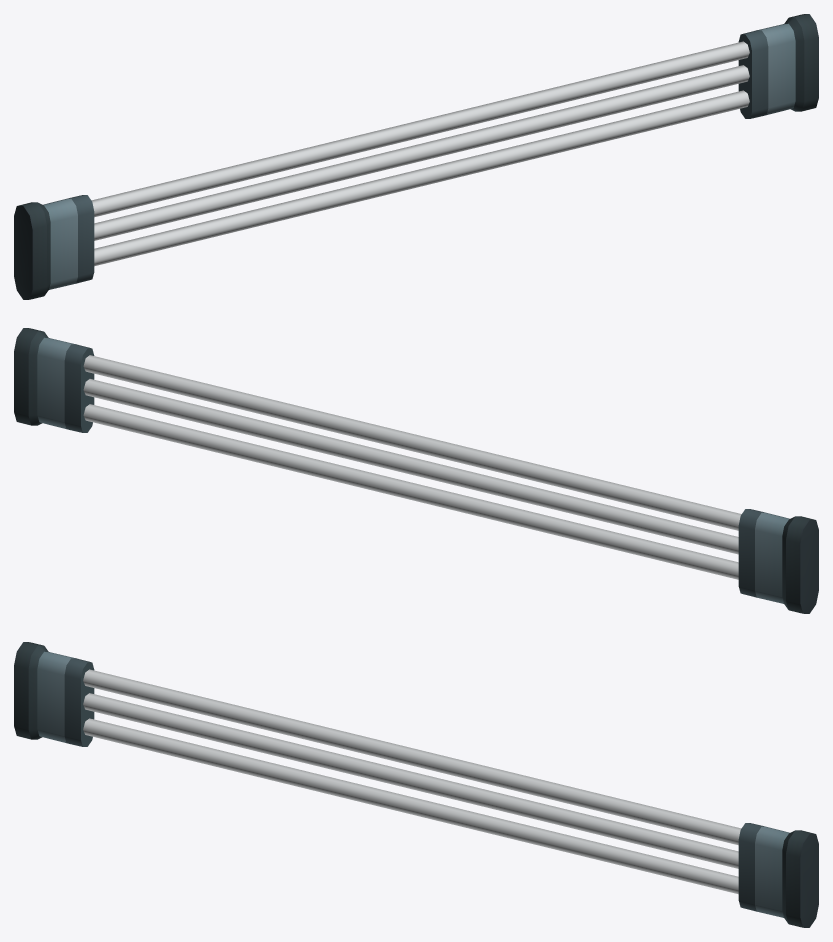
The model's file is Cable_type_B_006.fbx.
3 renders of one model, top to bottom at view 1: azimuth 30°, elevation 25°; view 2: azimuth 150°, elevation 25°; view 3: azimuth 330°, elevation 25°, orthographic.
Visible parts, largest first — view 1: Cable_type_B_006; view 2: Cable_type_B_006; view 3: Cable_type_B_006.
Boxes of the visible parts, bbox=[...] form: Cable_type_B_006: bbox=[14, 14, 818, 299]; Cable_type_B_006: bbox=[14, 328, 818, 613]; Cable_type_B_006: bbox=[14, 642, 818, 927].
Bounding box in the file's own units: 192 × 7.83 × 21.87.
